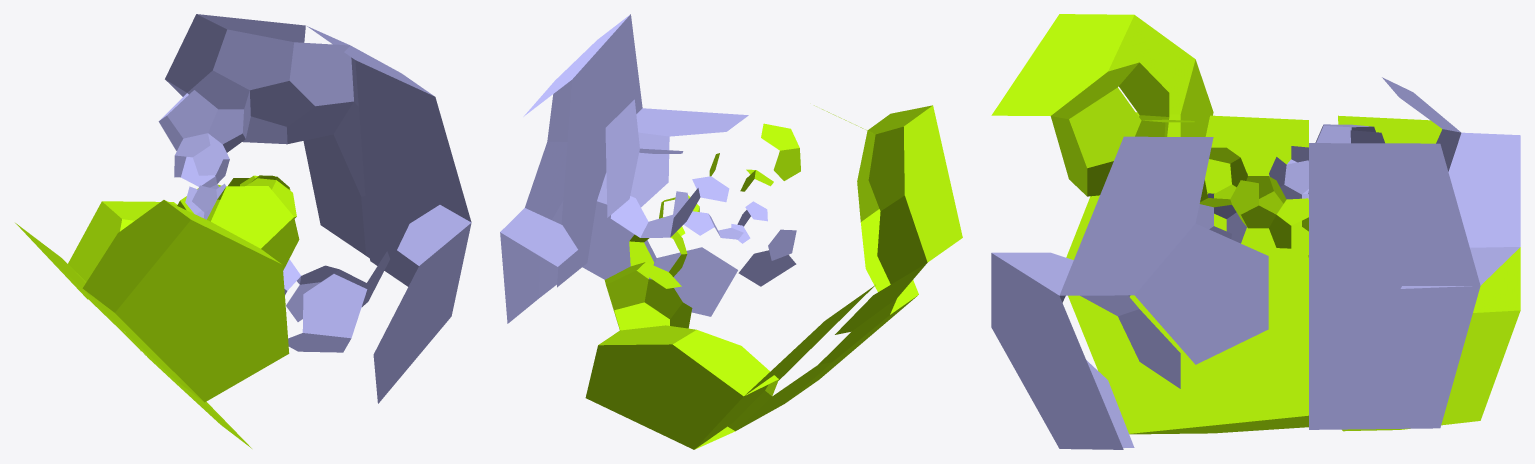
Rendered from LinkedRings.gltf.
The picture shows the model from 3 angles, left to right: view 1: azimuth 30°, elevation 25°; view 2: azimuth 150°, elevation 25°; view 3: azimuth 270°, elevation 25°; orthographic projection. The views are drawn at different scales.
Visible parts, largest first — view 1: 120CellLinkedRingsSpinning Group002RGB8080ff, 120CellLinkedRingsSpinning Group001RGB80ff00; view 2: 120CellLinkedRingsSpinning Group001RGB80ff00, 120CellLinkedRingsSpinning Group002RGB8080ff; view 3: 120CellLinkedRingsSpinning Group002RGB8080ff, 120CellLinkedRingsSpinning Group001RGB80ff00.
Boxes of the visible parts, left/top/right/bottom form: 120CellLinkedRingsSpinning Group002RGB8080ff: left=158, top=14, right=471, bottom=403; 120CellLinkedRingsSpinning Group001RGB80ff00: left=15, top=175, right=299, bottom=448; 120CellLinkedRingsSpinning Group001RGB80ff00: left=585, top=105, right=962, bottom=449; 120CellLinkedRingsSpinning Group002RGB8080ff: left=500, top=14, right=796, bottom=323; 120CellLinkedRingsSpinning Group002RGB8080ff: left=991, top=77, right=1520, bottom=449; 120CellLinkedRingsSpinning Group001RGB80ff00: left=991, top=14, right=1520, bottom=434.
Bounding box in the file's own units: 24.97 × 23.18 × 25.11.
